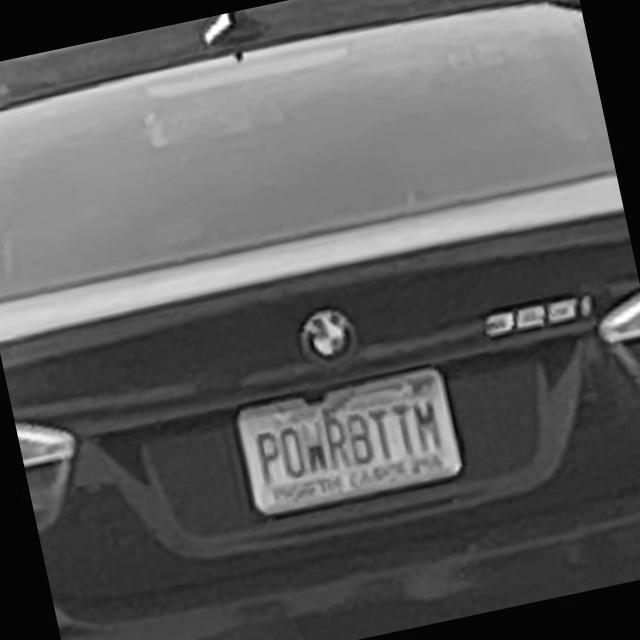LicensePlate: (229, 365, 466, 520)
